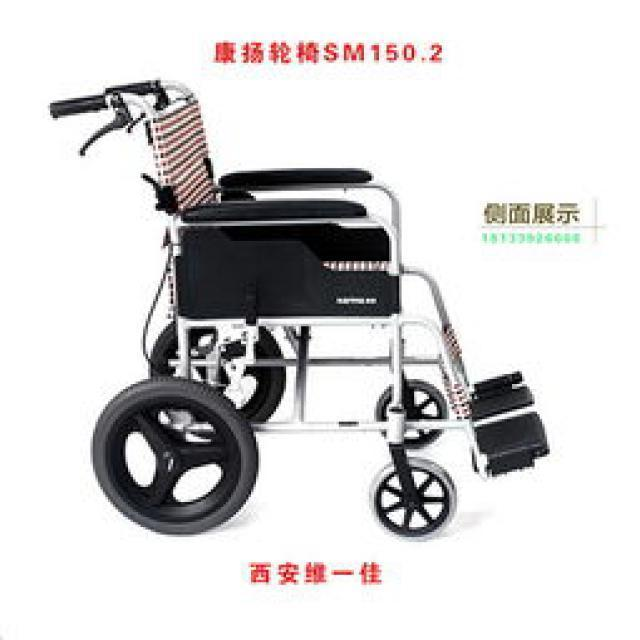wheelchairs: (53, 80, 549, 535)
